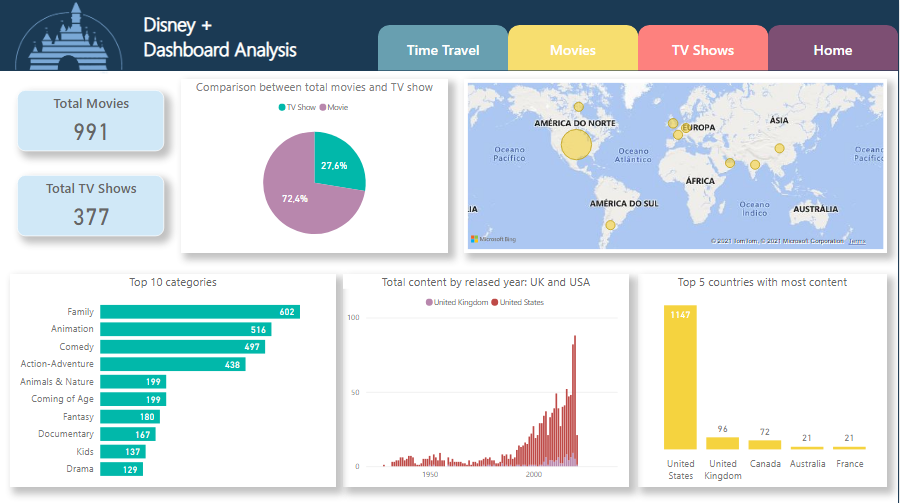

Layout of this report page (visuals, bound fields, positions):
{"tool":"powerbi","page":{"name":"Home","canvas":[1280,720],"ordinal":0},"visuals":[{"type":"shape","box":[0,102.2,1279.5,617.8],"z":0},{"type":"pieChart","title":"Comparison between total movies and TV show","fields":{"Y":["medidas.Total tv shows","medidas.Total movies"]},"box":[261.3,113.6,379.2,247.1],"z":1000},{"type":"barChart","title":"Top 10 categories","fields":{"Category":["categories.category"],"Y":["Count(categories.show_id)"]},"box":[18.5,390.5,463,302.5],"z":2000},{"type":"map","fields":{"Category":["disney_plus_titles.country"],"Size":["CountNonNull(disney_plus_titles.show_id)"]},"box":[663.2,113.6,600.7,247.1],"z":3000},{"type":"columnChart","title":"Top 5 countries with most content","fields":{"Category":["countries.country"],"Y":["CountNonNull(countries.show_id)"]},"box":[910.3,390.5,353.6,302.5],"z":4000},{"type":"lineStackedColumnComboChart","title":"Total content by relased year: UK and USA","fields":{"Category":["countries.release_year"],"Y":["CountNonNull(countries.show_id)"],"Series":["countries.country"]},"box":[491.4,390.5,406.2,302.5],"z":5000},{"type":"card","title":"Total TV Shows","fields":{"Values":["medidas.Total tv shows"]},"box":[28.4,249.9,208.8,86.6],"z":6000},{"type":"textbox","box":[203.1,11.4,259.9,89.5],"z":7000,"group":"g1"},{"type":"actionButton","box":[541.1,36.9,184.6,65.3],"z":8000},{"type":"actionButton","box":[725.7,36.9,184.6,65.3],"z":9000},{"type":"actionButton","box":[910.3,36.9,184.6,65.3],"z":10000},{"type":"actionButton","box":[1094.9,36.9,184.6,65.3],"z":11000},{"type":"card","title":"Total Movies","fields":{"Values":["medidas.Total movies"]},"box":[28.4,129.2,208.8,86.6],"z":12000},{"type":"image","box":[18.5,0,167.6,113.6],"z":13000,"group":"g1"},{"type":"group","id":"g1","title":"Grupo 1","box":[18.5,0,444.5,113.6],"z":13001}]}

Visuals, with their boxes in screenshot pixels (x1, y1, x2, y2), scaled from the page's 1280x720 canvas onto the 900x503 screenshot:
shape: (x1=0, y1=71, x2=899, y2=502)
"Comparison between total movies and TV show" pieChart: (x1=184, y1=79, x2=450, y2=252)
"Top 10 categories" barChart: (x1=13, y1=273, x2=339, y2=484)
map - disney_plus_titles.country x CountNonNull(disney_plus_titles.show_id): (x1=466, y1=79, x2=889, y2=252)
"Top 5 countries with most content" columnChart: (x1=640, y1=273, x2=889, y2=484)
"Total content by relased year: UK and USA" lineStackedColumnComboChart: (x1=346, y1=273, x2=631, y2=484)
"Total TV Shows" card: (x1=20, y1=175, x2=167, y2=235)
textbox: (x1=143, y1=8, x2=326, y2=70)
actionButton: (x1=380, y1=26, x2=510, y2=71)
actionButton: (x1=510, y1=26, x2=640, y2=71)
actionButton: (x1=640, y1=26, x2=770, y2=71)
actionButton: (x1=770, y1=26, x2=899, y2=71)
"Total Movies" card: (x1=20, y1=90, x2=167, y2=151)
image: (x1=13, y1=0, x2=131, y2=79)
"Grupo 1" group: (x1=13, y1=0, x2=326, y2=79)
